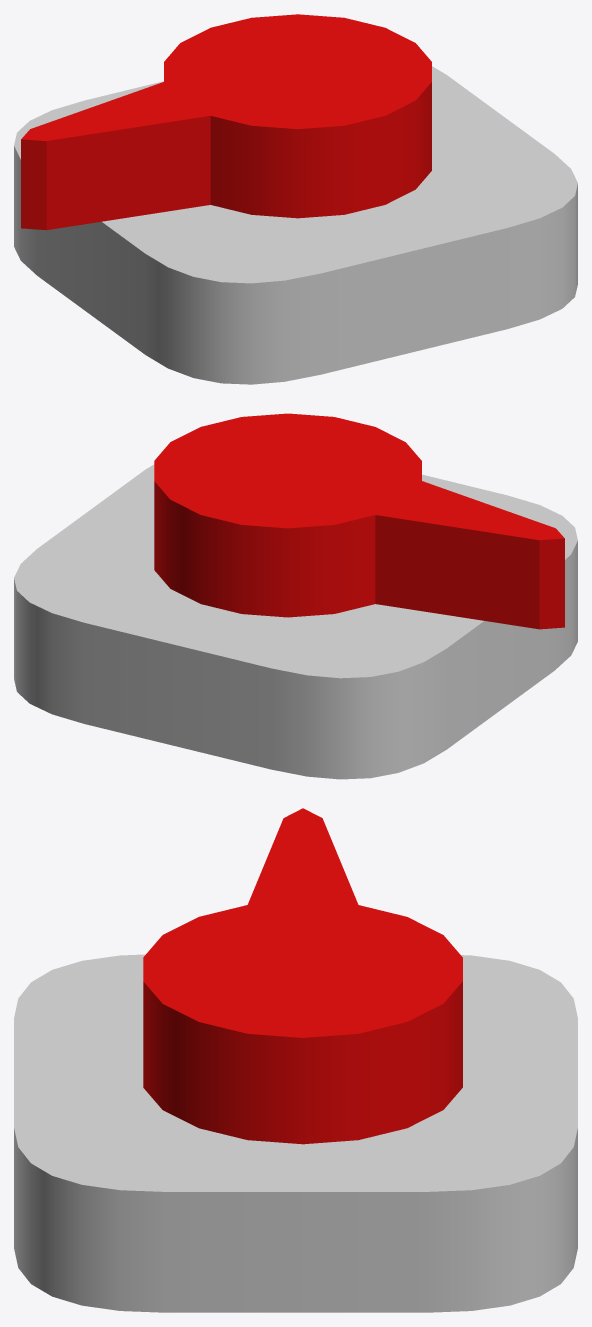
File: Ob_Turn Switch.FBX
3 renders of one model, top to bottom at view 1: azimuth 30°, elevation 25°; view 2: azimuth 150°, elevation 25°; view 3: azimuth 270°, elevation 25°, orthographic. The views are drawn at different scales.
Visible parts, largest first — view 1: Turn Switch Holder, Turn Switch; view 2: Turn Switch Holder, Turn Switch; view 3: Turn Switch Holder, Turn Switch.
Part boxes in pixels (box(x1,y1,x2,y2)): Turn Switch Holder: box(14, 66, 577, 384); Turn Switch: box(21, 14, 431, 230); Turn Switch Holder: box(14, 464, 577, 779); Turn Switch: box(154, 413, 564, 629); Turn Switch Holder: box(14, 954, 577, 1312); Turn Switch: box(143, 808, 462, 1144).
Bounding box in the file's own units: 13.27 × 5.07 × 11.4.
